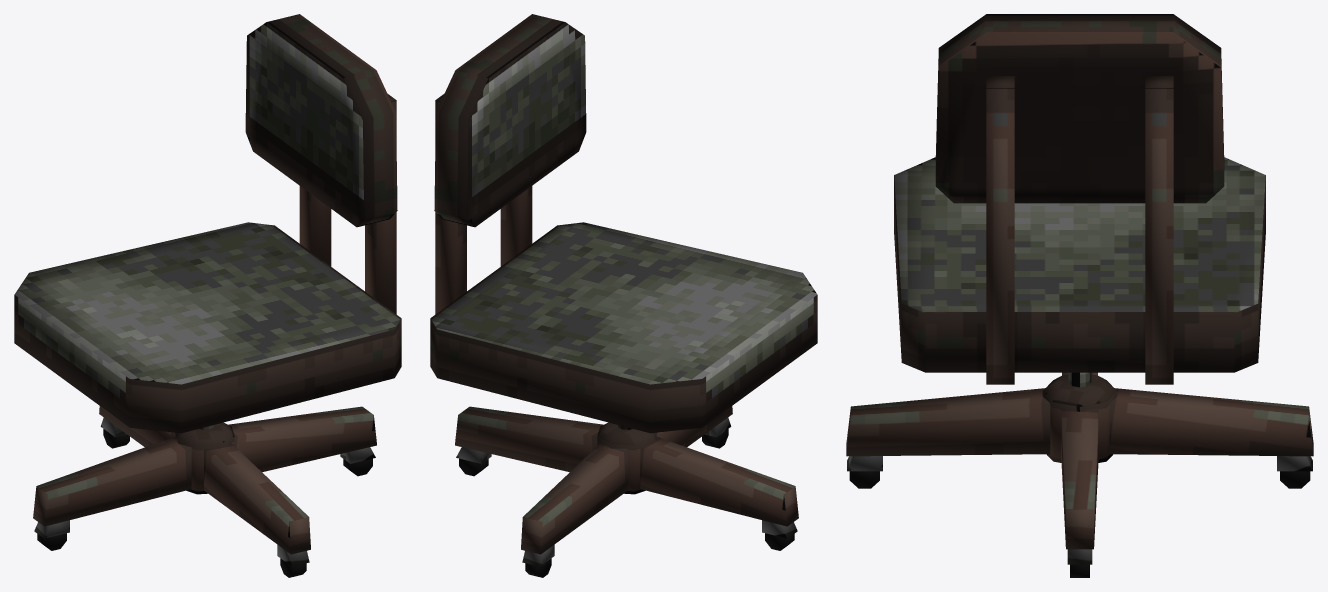
The model's file is chair01_ALBEDO_256x256.fbx.
3 views of the same model, side by side, from view 1: azimuth 30°, elevation 25°; view 2: azimuth 150°, elevation 25°; view 3: azimuth 270°, elevation 25° (orthographic). The views are drawn at different scales.
Parts seen in each view (by area): view 1: chair01; view 2: chair01; view 3: chair01.
Boxes of the visible parts, x1,y1,x2,y2 form: chair01: [14, 14, 401, 577]; chair01: [430, 14, 817, 577]; chair01: [846, 14, 1313, 577].
Size of the model in its own units: 100 by 125 by 100.
Materials: 1 (1 with a texture image).
